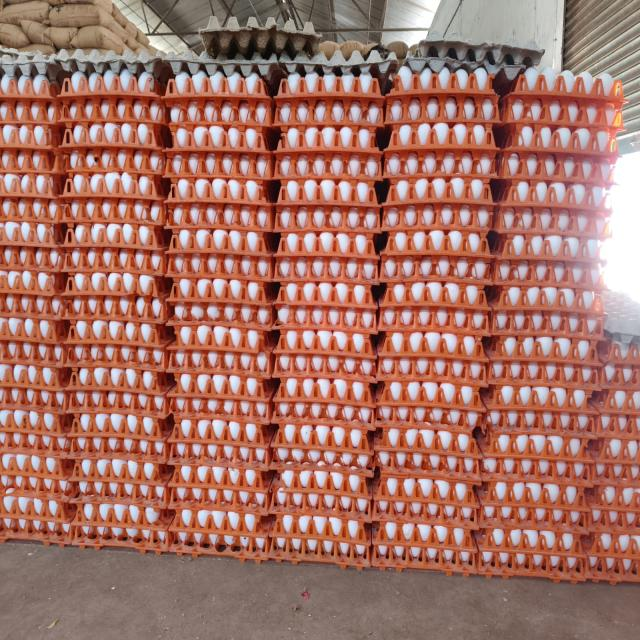egg_tray: (169, 178, 274, 560), (373, 282, 487, 572), (485, 182, 608, 430), (270, 281, 375, 566), (478, 333, 599, 579), (476, 336, 597, 581), (477, 337, 597, 579), (276, 180, 377, 461), (372, 327, 486, 573), (165, 71, 273, 327), (64, 223, 173, 461), (169, 179, 276, 421), (481, 286, 603, 481), (276, 74, 382, 286), (276, 73, 383, 283), (372, 377, 484, 572), (372, 380, 484, 573), (372, 381, 479, 573), (270, 371, 373, 566), (64, 173, 169, 364), (270, 375, 373, 566), (168, 229, 275, 402), (492, 180, 610, 333), (376, 326, 486, 483), (376, 326, 487, 481), (476, 429, 593, 574), (0, 265, 70, 503), (271, 403, 372, 565), (167, 178, 276, 328), (372, 425, 480, 573), (275, 179, 379, 332), (169, 227, 273, 379), (168, 323, 274, 471), (169, 412, 272, 560), (64, 223, 170, 366), (170, 412, 273, 559), (494, 182, 610, 310), (498, 68, 625, 184), (485, 287, 604, 410), (0, 196, 66, 412), (378, 251, 490, 378), (70, 410, 170, 552), (68, 294, 172, 430), (72, 407, 170, 550), (71, 412, 170, 551), (276, 73, 383, 200), (585, 339, 640, 582), (65, 172, 168, 301), (62, 172, 167, 294), (64, 172, 166, 297), (492, 181, 610, 289), (380, 178, 493, 290), (60, 69, 168, 186), (383, 122, 495, 232), (483, 334, 599, 436), (275, 73, 383, 182), (476, 478, 589, 581), (478, 386, 594, 486), (276, 283, 375, 395), (483, 338, 595, 437), (66, 316, 173, 418), (70, 400, 170, 509), (276, 179, 378, 285), (62, 123, 165, 227), (66, 316, 172, 414), (271, 374, 373, 475), (169, 461, 272, 559), (485, 309, 603, 394), (0, 409, 74, 544), (0, 76, 62, 225), (490, 258, 604, 339), (0, 174, 64, 316), (65, 291, 172, 374), (500, 67, 626, 137), (0, 429, 74, 543), (380, 229, 491, 303), (64, 295, 172, 371), (64, 222, 170, 299), (500, 67, 625, 131), (167, 323, 276, 392), (496, 125, 618, 185), (496, 127, 617, 186), (0, 271, 66, 379), (385, 67, 499, 129), (592, 340, 640, 485), (0, 358, 69, 457), (0, 314, 68, 414), (377, 327, 488, 388), (167, 229, 276, 291), (164, 70, 273, 132), (274, 174, 380, 237), (60, 68, 164, 132), (384, 122, 496, 181), (0, 220, 64, 323), (375, 422, 481, 484), (274, 71, 384, 130), (380, 179, 493, 236), (165, 124, 273, 183), (382, 178, 493, 235), (60, 122, 165, 182), (475, 526, 587, 582), (476, 479, 590, 534), (62, 236, 168, 295), (0, 75, 60, 179), (273, 125, 382, 182), (63, 170, 166, 230), (0, 147, 62, 245), (375, 377, 484, 432), (378, 281, 489, 335), (66, 362, 173, 418), (269, 510, 370, 569), (372, 473, 478, 529), (166, 178, 273, 233), (371, 519, 476, 575), (169, 462, 273, 518), (270, 465, 372, 522), (274, 423, 372, 482), (170, 505, 271, 562), (0, 199, 63, 290), (271, 419, 373, 475), (275, 230, 378, 285), (273, 327, 376, 382), (168, 418, 274, 471), (168, 278, 276, 330), (272, 508, 368, 565), (67, 411, 172, 463), (71, 454, 170, 509), (0, 148, 61, 237), (168, 373, 276, 423), (274, 283, 377, 335), (72, 500, 171, 554), (0, 292, 66, 371), (274, 378, 375, 428), (276, 330, 374, 380), (0, 121, 63, 196), (63, 294, 172, 335), (0, 487, 75, 545), (0, 177, 62, 244), (281, 331, 374, 375), (383, 197, 459, 244), (0, 74, 59, 130), (0, 409, 70, 456), (584, 526, 640, 583), (278, 330, 369, 365), (584, 527, 640, 583), (584, 529, 640, 583), (588, 477, 640, 533), (75, 433, 167, 462), (279, 373, 370, 401), (599, 336, 640, 398), (280, 331, 358, 362), (3, 222, 59, 258), (590, 485, 640, 521), (410, 228, 485, 249), (596, 485, 638, 521), (138, 323, 171, 368), (4, 518, 68, 539), (20, 421, 64, 447), (599, 409, 623, 438), (518, 336, 571, 347), (447, 363, 481, 379), (606, 487, 638, 503), (88, 223, 127, 235), (306, 354, 328, 374), (564, 546, 583, 569), (288, 410, 324, 421), (0, 327, 32, 339), (356, 430, 371, 454), (552, 320, 578, 332), (561, 299, 591, 309), (464, 206, 478, 227), (276, 425, 291, 443), (389, 231, 408, 245), (577, 291, 599, 302), (468, 337, 481, 355), (433, 308, 451, 321), (543, 558, 558, 573), (3, 226, 16, 243), (474, 223, 486, 241), (126, 369, 149, 378), (283, 182, 295, 199), (433, 309, 450, 321), (335, 381, 349, 395), (152, 283, 165, 296), (140, 382, 155, 393), (125, 370, 148, 377), (504, 338, 517, 350), (458, 362, 470, 375), (2, 438, 16, 449), (128, 238, 145, 247), (70, 351, 85, 361), (431, 338, 446, 348), (458, 309, 473, 319), (6, 327, 19, 338), (155, 286, 168, 297), (74, 224, 89, 233), (156, 396, 168, 407), (440, 359, 456, 367), (315, 310, 326, 321), (529, 537, 537, 552), (86, 345, 96, 357), (26, 185, 41, 193), (442, 295, 457, 303), (461, 309, 473, 319), (283, 378, 296, 387), (470, 412, 479, 425), (423, 283, 442, 289), (38, 328, 48, 339), (574, 398, 584, 409), (362, 370, 373, 380), (38, 414, 49, 424), (126, 323, 138, 332), (436, 363, 445, 375), (154, 358, 166, 367), (3, 232, 12, 244), (416, 307, 428, 316), (120, 298, 133, 306), (390, 285, 403, 293), (613, 400, 624, 409), (476, 309, 485, 320), (28, 475, 42, 482), (356, 285, 364, 297), (330, 503, 338, 515), (422, 283, 441, 288), (518, 434, 531, 441), (81, 247, 99, 252), (453, 336, 462, 346), (516, 399, 527, 407), (0, 174, 6, 188), (50, 513, 64, 519), (143, 329, 150, 341), (361, 358, 373, 365), (414, 334, 426, 341), (121, 394, 135, 400), (3, 149, 19, 154), (309, 220, 319, 228), (163, 517, 169, 530), (320, 379, 328, 388), (501, 396, 510, 404), (303, 379, 312, 387), (398, 310, 410, 316), (478, 309, 485, 319), (281, 468, 288, 478), (4, 246, 10, 257), (346, 407, 352, 418), (451, 335, 459, 343), (78, 327, 86, 335), (109, 227, 117, 235), (558, 339, 566, 347), (74, 354, 83, 361), (3, 236, 12, 243), (116, 357, 128, 362), (318, 380, 328, 386), (460, 386, 472, 391), (546, 437, 560, 441), (193, 403, 200, 411), (108, 355, 116, 362), (394, 285, 401, 293), (451, 335, 458, 343), (167, 376, 172, 387), (547, 299, 556, 305), (158, 234, 163, 244), (134, 372, 144, 377), (476, 342, 481, 352), (586, 341, 591, 351), (283, 217, 288, 227), (362, 369, 367, 379), (286, 449, 291, 459), (409, 381, 419, 386), (628, 407, 635, 414), (281, 390, 288, 397), (93, 485, 100, 492), (416, 308, 423, 315), (327, 406, 334, 413), (511, 538, 519, 544), (323, 495, 331, 501), (86, 392, 98, 396), (163, 430, 168, 439), (298, 310, 307, 315), (532, 298, 541, 303), (34, 507, 40, 514), (330, 407, 336, 414), (109, 327, 115, 334), (536, 435, 544, 440), (93, 414, 101, 419), (510, 419, 515, 427), (283, 332, 288, 340), (391, 231, 401, 235), (157, 300, 163, 306), (560, 564, 566, 570), (542, 547, 551, 551), (523, 542, 529, 548), (50, 415, 56, 421), (22, 231, 28, 237), (388, 106, 391, 118), (367, 485, 370, 497), (353, 382, 362, 386), (416, 359, 420, 368), (290, 455, 296, 461), (392, 382, 401, 386), (299, 353, 305, 359), (13, 178, 19, 184), (468, 252, 475, 257), (468, 337, 475, 342), (523, 265, 530, 270), (517, 348, 524, 353), (94, 287, 99, 294), (489, 349, 493, 357), (484, 456, 488, 464), (310, 405, 314, 413), (523, 265, 531, 269), (448, 348, 454, 353), (468, 228, 478, 231), (468, 337, 474, 342), (388, 261, 394, 266), (486, 211, 489, 221), (51, 336, 58, 340), (87, 298, 91, 305), (592, 503, 596, 510), (494, 338, 501, 342), (120, 299, 129, 302), (526, 419, 531, 424), (20, 185, 25, 190), (303, 365, 308, 370), (500, 434, 508, 437), (384, 369, 390, 373), (442, 339, 445, 347), (422, 429, 434, 431), (199, 242, 203, 248), (39, 276, 45, 280), (16, 239, 20, 245), (231, 503, 237, 507), (132, 217, 140, 220), (120, 211, 124, 217), (349, 372, 353, 378), (288, 360, 294, 364), (307, 318, 313, 322), (598, 328, 601, 335), (440, 360, 447, 363), (295, 372, 302, 375), (562, 539, 566, 544), (442, 309, 446, 314), (560, 400, 564, 405), (79, 414, 83, 419), (350, 223, 354, 228), (184, 382, 188, 387), (125, 274, 131, 277), (102, 336, 108, 339), (114, 331, 117, 337), (24, 455, 30, 458), (575, 349, 578, 355), (556, 343, 559, 349), (320, 283, 326, 286), (362, 337, 368, 340), (284, 366, 290, 369), (0, 178, 3, 184), (80, 370, 86, 373), (402, 188, 408, 191), (576, 566, 580, 570), (546, 539, 550, 543), (542, 402, 546, 406), (440, 341, 444, 345), (4, 138, 8, 142), (405, 338, 409, 342), (298, 458, 302, 462), (108, 394, 116, 396), (531, 435, 536, 438), (96, 381, 101, 384), (179, 407, 184, 410), (90, 491, 95, 494), (491, 420, 496, 423), (33, 291, 38, 294), (314, 213, 317, 218), (5, 185, 10, 188), (566, 340, 571, 343), (183, 522, 188, 525), (435, 375, 438, 380), (440, 398, 445, 401), (456, 232, 461, 235), (113, 301, 120, 303), (47, 458, 54, 460), (163, 317, 166, 321), (430, 349, 434, 352), (556, 548, 562, 550), (132, 359, 138, 361), (140, 358, 144, 361), (119, 247, 123, 250), (74, 348, 78, 351), (142, 188, 145, 192), (452, 336, 456, 339), (354, 389, 358, 392), (365, 385, 368, 389), (369, 348, 372, 352), (16, 243, 19, 247), (441, 371, 445, 374), (458, 343, 462, 346), (398, 334, 402, 337), (290, 424, 294, 427), (288, 381, 292, 384), (585, 300, 591, 302), (83, 531, 87, 534), (35, 314, 40, 316), (230, 422, 232, 427), (94, 339, 99, 341), (47, 207, 49, 212), (150, 354, 155, 356), (573, 350, 575, 355), (343, 416, 348, 418), (281, 362, 286, 364), (458, 372, 463, 374), (400, 361, 402, 366), (404, 318, 409, 320), (439, 180, 444, 182), (546, 327, 549, 330), (265, 393, 268, 396), (83, 491, 86, 494), (82, 468, 85, 471), (352, 358, 355, 361), (14, 412, 17, 415), (194, 194, 197, 197), (173, 186, 176, 189), (47, 485, 50, 488), (482, 232, 485, 235), (433, 98, 436, 101), (88, 216, 91, 219), (109, 178, 112, 181), (3, 454, 6, 457), (471, 338, 474, 341), (303, 510, 306, 513), (40, 231, 43, 234), (283, 447, 286, 450), (453, 315, 456, 318), (85, 540, 88, 543), (138, 349, 140, 353), (36, 178, 38, 182), (25, 315, 33, 316), (89, 274, 93, 276), (328, 233, 332, 235), (50, 520, 54, 522), (436, 311, 440, 313), (116, 247, 118, 251), (174, 194, 178, 196), (23, 225, 25, 229), (610, 139, 614, 141), (359, 183, 360, 191), (366, 559, 368, 563), (56, 190, 58, 194), (276, 510, 280, 512), (360, 416, 364, 418), (9, 160, 11, 164), (423, 359, 427, 361), (289, 291, 293, 293), (112, 369, 116, 371), (410, 263, 412, 267), (424, 181, 426, 185), (162, 297, 164, 300), (425, 227, 428, 229), (44, 330, 46, 333), (78, 387, 80, 390), (81, 383, 83, 386), (58, 521, 61, 523), (570, 572, 572, 575), (520, 546, 522, 549), (518, 546, 520, 549), (574, 345, 576, 348), (164, 318, 166, 321), (165, 309, 166, 315), (90, 274, 93, 276), (633, 513, 636, 515), (114, 301, 117, 303), (0, 177, 2, 180), (416, 181, 418, 184), (76, 185, 78, 188), (2, 469, 5, 471), (528, 295, 531, 297), (453, 315, 455, 318), (478, 342, 480, 345), (442, 340, 445, 342), (324, 505, 326, 508), (349, 407, 351, 410), (363, 377, 366, 379), (361, 361, 363, 364), (382, 309, 384, 312), (25, 175, 28, 177), (468, 398, 471, 400), (472, 205, 474, 208), (392, 186, 394, 189), (450, 362, 455, 363), (89, 299, 90, 304), (330, 225, 335, 226), (7, 159, 8, 164), (403, 278, 405, 280), (476, 247, 478, 249), (618, 396, 620, 398), (52, 337, 54, 339), (558, 542, 560, 544), (215, 409, 217, 411), (187, 409, 189, 411), (100, 495, 102, 497), (30, 374, 34, 375), (304, 225, 306, 227), (362, 186, 364, 188), (344, 186, 346, 188), (341, 185, 342, 189), (76, 188, 78, 190), (627, 487, 629, 489), (323, 509, 325, 511), (294, 420, 296, 422), (418, 310, 420, 312), (440, 310, 444, 311), (429, 283, 433, 284), (10, 231, 12, 233), (434, 372, 436, 374), (360, 450, 362, 452), (122, 402, 126, 403), (104, 394, 106, 396), (123, 373, 125, 375), (429, 260, 431, 262), (391, 198, 393, 200), (319, 356, 322, 357), (160, 142, 161, 145), (40, 180, 41, 183), (20, 322, 23, 323), (98, 274, 101, 275), (107, 250, 110, 251), (71, 249, 74, 250), (19, 445, 20, 448), (30, 443, 31, 446), (302, 205, 305, 206), (343, 197, 344, 200), (359, 191, 360, 194), (72, 234, 75, 235), (352, 349, 355, 350), (52, 183, 53, 186), (121, 206, 122, 209), (406, 318, 409, 319), (293, 495, 294, 498), (299, 362, 302, 363), (478, 414, 479, 417), (469, 398, 470, 401), (412, 340, 415, 341), (388, 334, 389, 337), (281, 460, 284, 461), (325, 195, 326, 198), (423, 318, 426, 319), (454, 285, 457, 286), (5, 175, 6, 178), (121, 540, 124, 541), (76, 531, 79, 532), (150, 397, 153, 398), (383, 266, 384, 269), (455, 220, 458, 221), (385, 278, 387, 279), (538, 442, 539, 444), (572, 396, 573, 398), (160, 385, 162, 386), (65, 520, 67, 521), (29, 511, 31, 512), (15, 507, 17, 508), (580, 560, 581, 562), (551, 540, 553, 541), (420, 311, 421, 313), (142, 491, 143, 493), (128, 329, 130, 330), (30, 413, 31, 415), (44, 274, 46, 275), (416, 76, 417, 78), (406, 69, 408, 70), (54, 211, 55, 213), (14, 188, 15, 190), (161, 220, 163, 221), (126, 191, 128, 192), (52, 465, 54, 466), (462, 286, 463, 288), (428, 311, 430, 312), (194, 327, 195, 329), (284, 349, 286, 350), (283, 344, 284, 346), (281, 362, 282, 364), (478, 343, 479, 345), (428, 334, 430, 335), (325, 460, 327, 461), (367, 409, 368, 411), (454, 329, 456, 330), (388, 290, 389, 292), (465, 407, 467, 408), (411, 260, 412, 262), (454, 238, 456, 239), (454, 227, 456, 228), (479, 181, 480, 183), (585, 354, 586, 355), (593, 349, 594, 350), (0, 330, 1, 331), (547, 558, 548, 559), (543, 554, 544, 555), (0, 281, 1, 282), (587, 396, 588, 397), (154, 354, 155, 355), (127, 258, 128, 259), (369, 342, 370, 343), (54, 213, 55, 214), (147, 227, 148, 228), (321, 285, 322, 286), (49, 180, 50, 181), (216, 127, 217, 128), (505, 300, 506, 301), (366, 485, 367, 486), (436, 311, 437, 312), (36, 231, 37, 232), (0, 169, 1, 170), (336, 318, 337, 319), (96, 542, 97, 543), (91, 542, 92, 543), (489, 207, 490, 208), (325, 356, 327, 356), (87, 394, 88, 394), (390, 378, 390, 379), (476, 368, 476, 368), (494, 474, 494, 475), (552, 442, 552, 443), (578, 441, 579, 441), (394, 349, 394, 350), (545, 268, 545, 270), (232, 330, 232, 330), (4, 201, 6, 201), (23, 345, 23, 346), (78, 381, 79, 381), (289, 236, 290, 236), (47, 521, 49, 521), (10, 518, 10, 519), (321, 393, 321, 394), (188, 401, 190, 401), (265, 387, 265, 388), (243, 382, 243, 383), (565, 399, 565, 399), (288, 367, 290, 367), (294, 347, 294, 348), (2, 412, 4, 412), (110, 240, 110, 241), (150, 229, 150, 230), (54, 376, 54, 377), (561, 472, 561, 474), (452, 99, 452, 99), (43, 212, 43, 212), (285, 205, 286, 205), (334, 198, 334, 199), (356, 401, 357, 401), (325, 401, 325, 401), (352, 399, 352, 399), (56, 184, 56, 186), (56, 180, 56, 182), (70, 194, 70, 195), (224, 134, 226, 134), (392, 290, 392, 290), (328, 514, 328, 514), (345, 505, 345, 506), (312, 421, 312, 421), (300, 372, 302, 372), (427, 285, 428, 285), (178, 527, 180, 527), (376, 261, 376, 262), (450, 372, 450, 372), (404, 363, 408, 363), (343, 444, 343, 446), (278, 414, 280, 414), (298, 368, 299, 368), (47, 183, 48, 183), (127, 543, 128, 543), (76, 539, 77, 539), (105, 376, 106, 376), (128, 370, 128, 370), (464, 412, 466, 412), (408, 265, 408, 266), (403, 228, 403, 230), (421, 187, 421, 188), (460, 181, 462, 181)
